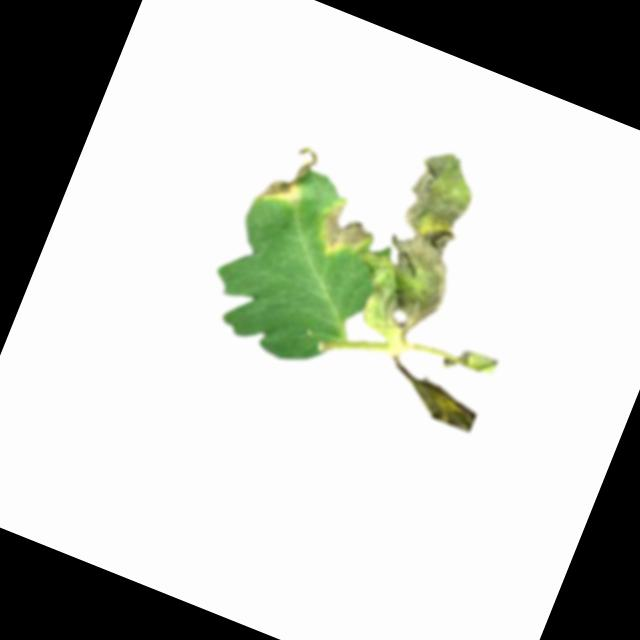Late_blight: (338, 136, 498, 352), (257, 134, 322, 215), (312, 196, 377, 266)
